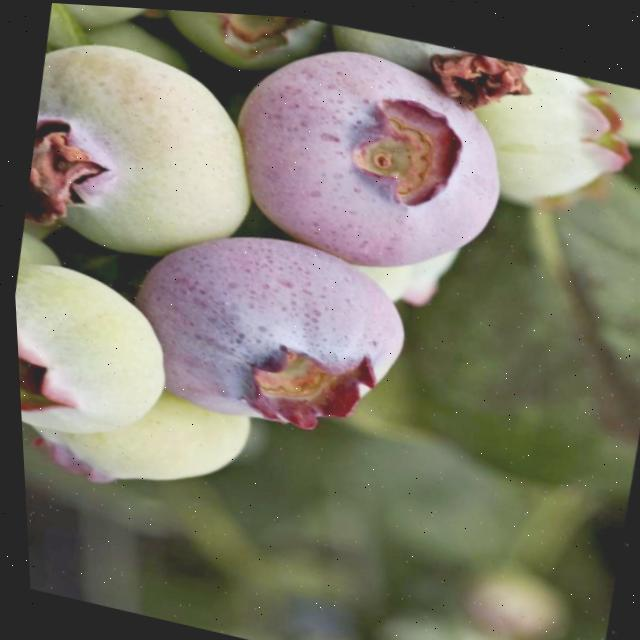Semi-RipeBlueBerry: (206, 12, 535, 299), (108, 195, 430, 456)
UnripeBlueBerry: (11, 18, 286, 286), (10, 247, 191, 457)
